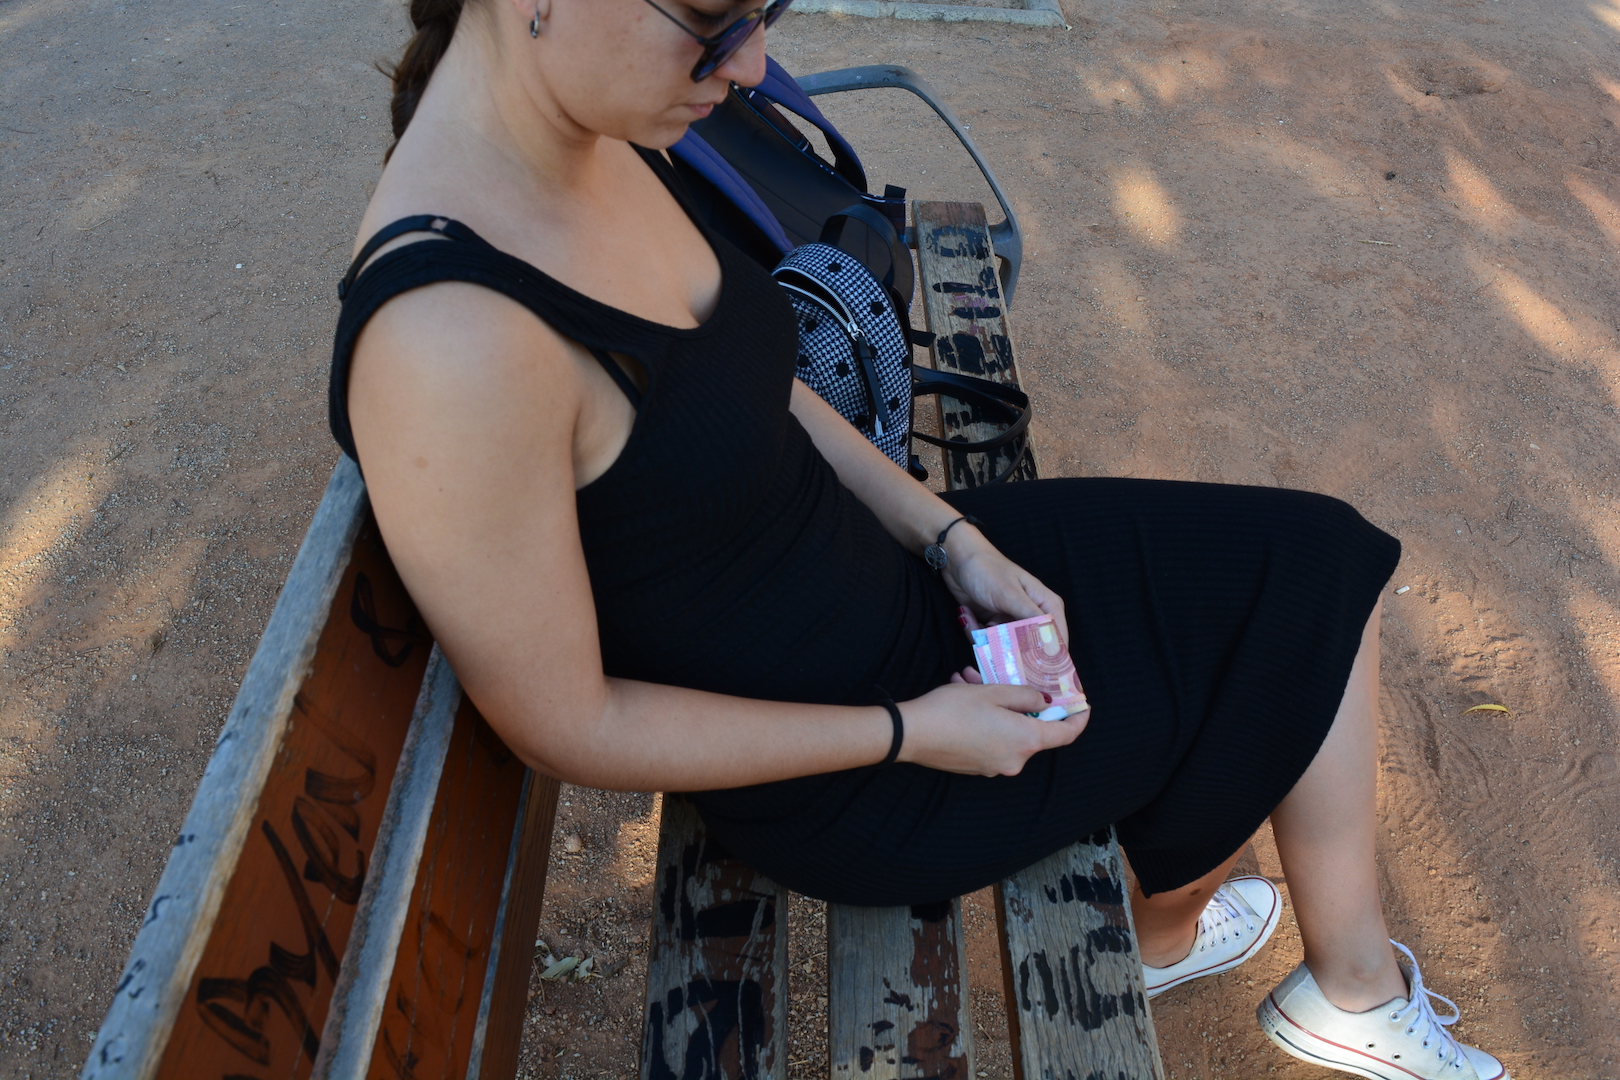billete: (967, 614, 1090, 726)
